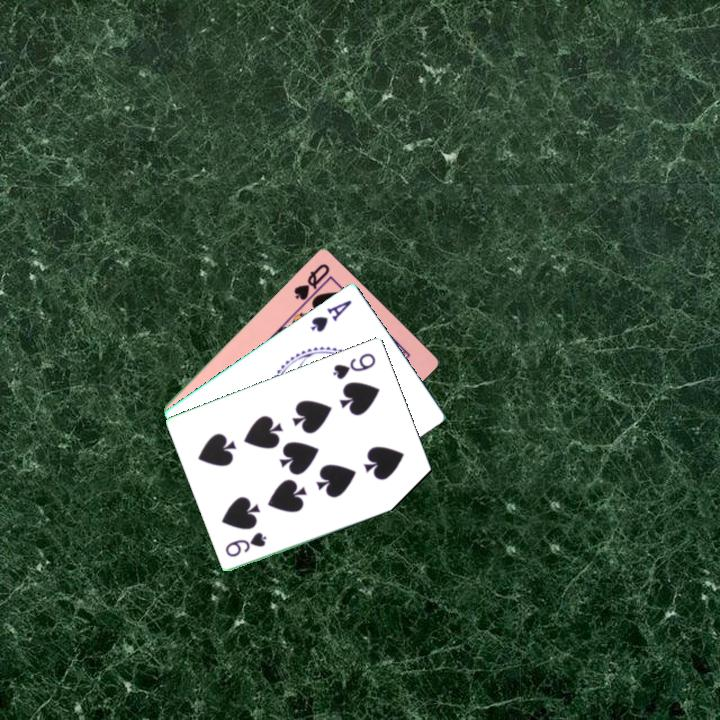9s: (329, 349, 379, 382), (222, 528, 270, 560)
As: (308, 296, 355, 335)
Qs: (290, 259, 334, 309)
